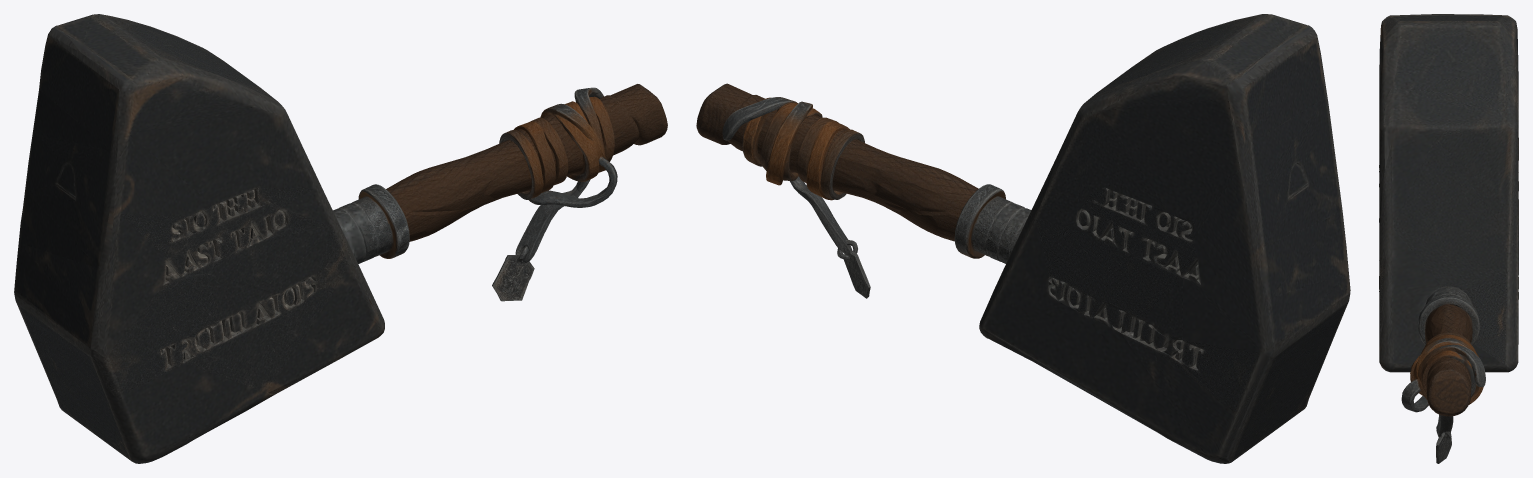
Rendered from hammer.glb.
The picture shows the model from 3 angles, left to right: view 1: azimuth 30°, elevation 25°; view 2: azimuth 150°, elevation 25°; view 3: azimuth 270°, elevation 25°; orthographic projection. The views are drawn at different scales.
Size of the model in its own units: 1.9 by 1.18 by 0.467.
1 material, 1 textured.
